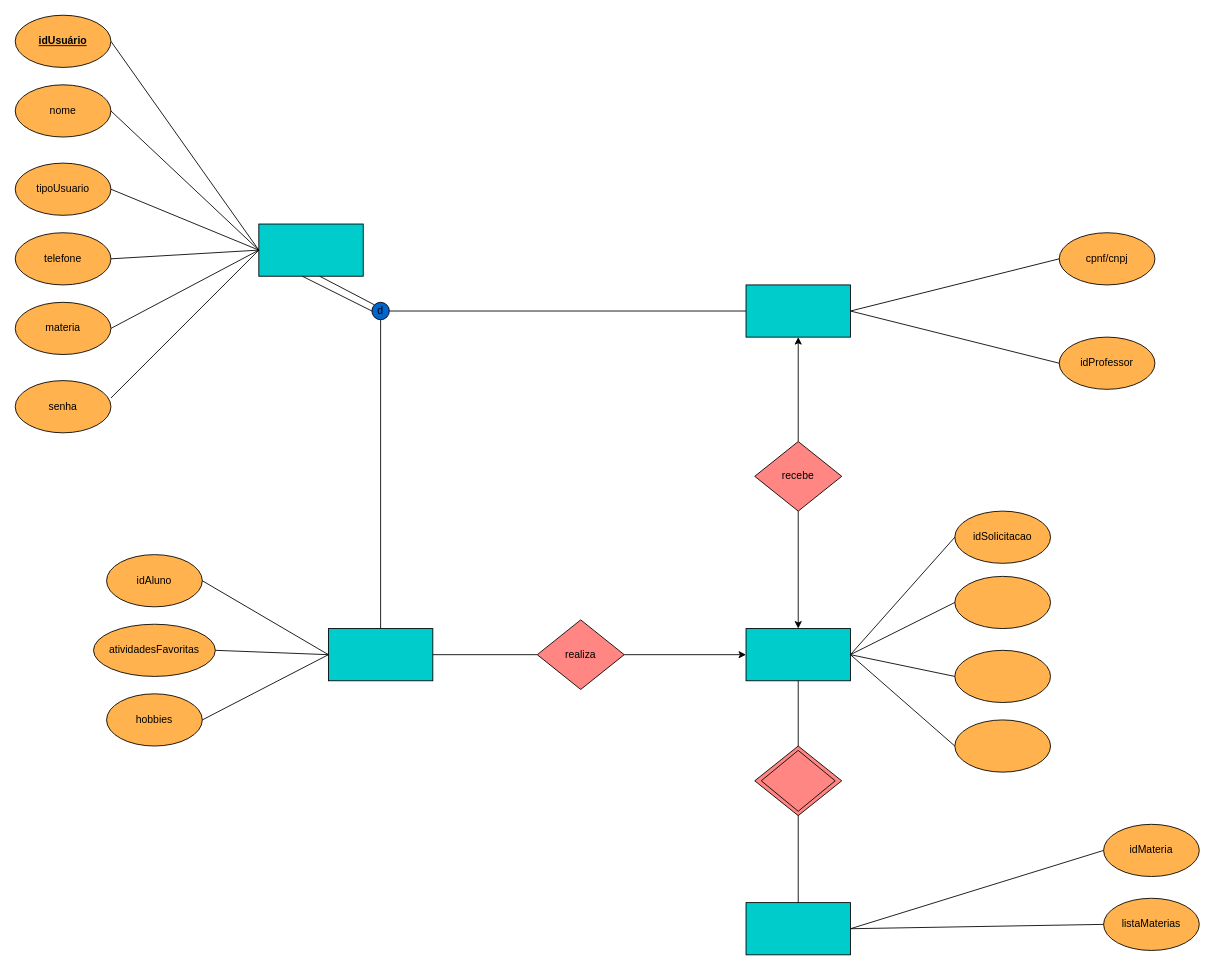
The diagram is 1215 pixels wide and 970 high, and some of its shapes have lost their labels. The shapes that lost their labels are listed below. From the top down, each one's centre as x and y in pixels, then its label:
At pixel 310 249: "Usuário".
At pixel 797 310: "Professor".
At pixel 380 654: "Aluno".
At pixel 797 654: "Solicitação de Serviço (Chat/Formulário??)".
At pixel 797 780: "contém".
At pixel 797 928: "Matéria".
